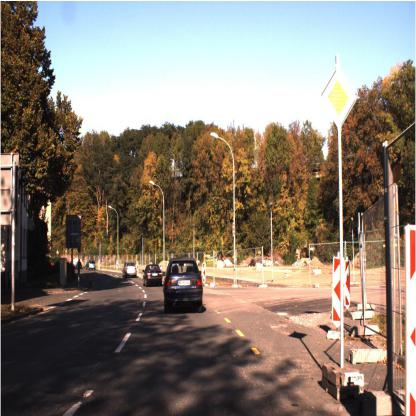other: (315, 61, 358, 132)
